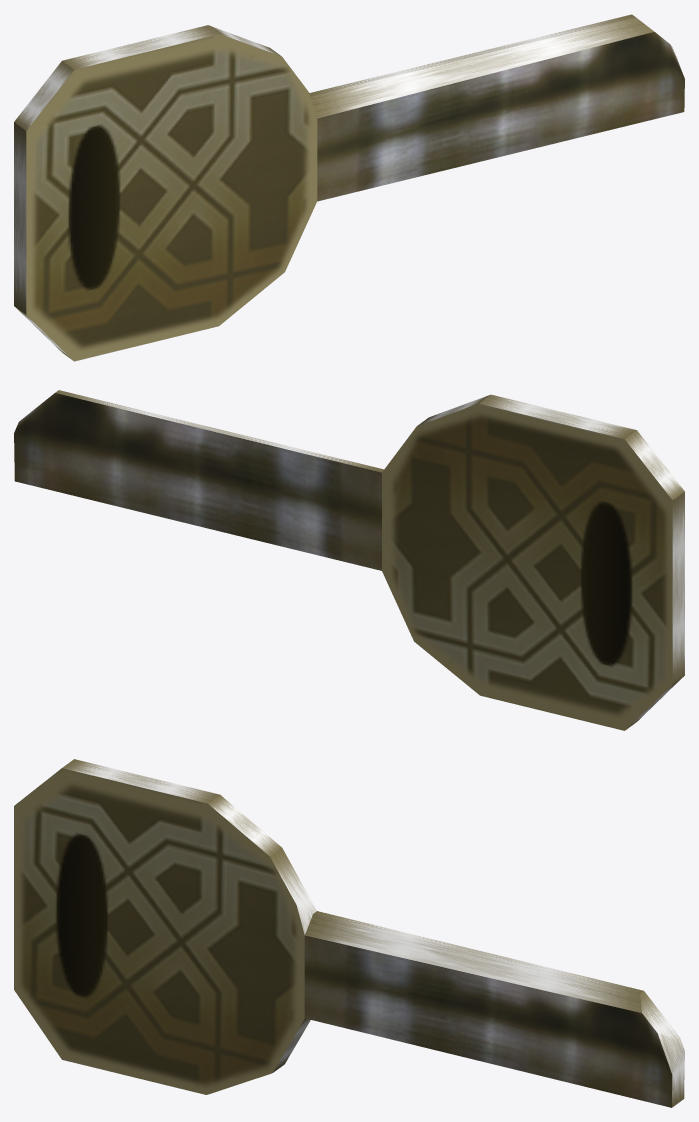
The model's file is datan_common_key_581b4ead.obj.
3 renders of one model, top to bottom at view 1: azimuth 30°, elevation 25°; view 2: azimuth 150°, elevation 25°; view 3: azimuth 330°, elevation 25°, orthographic.
Parts seen in each view (by area): view 1: datan_common_key_581b4ead_mesh00; view 2: datan_common_key_581b4ead_mesh00; view 3: datan_common_key_581b4ead_mesh00.
Boxes of the visible parts, left/top/right/bottom form: datan_common_key_581b4ead_mesh00: left=14, top=14, right=684, bottom=361; datan_common_key_581b4ead_mesh00: left=14, top=390, right=684, bottom=730; datan_common_key_581b4ead_mesh00: left=14, top=759, right=684, bottom=1107.
Size of the model in its own units: 68.77 by 29.11 by 2.22.
1 material, 1 textured.
